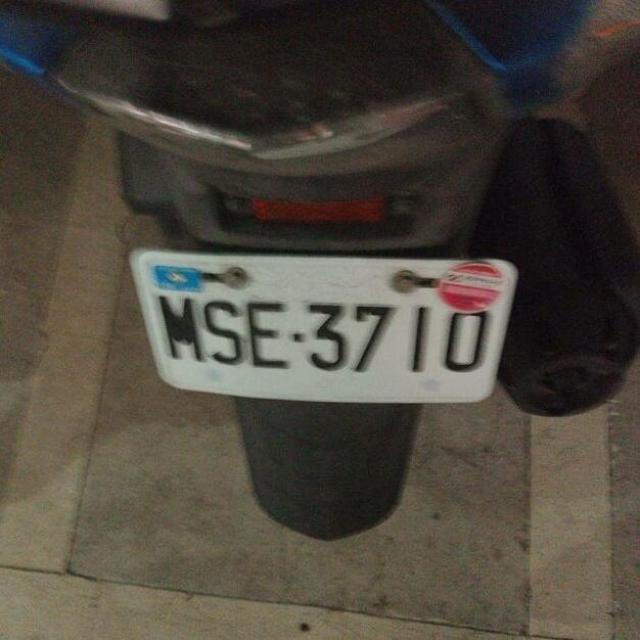W: (119, 211, 528, 424)
